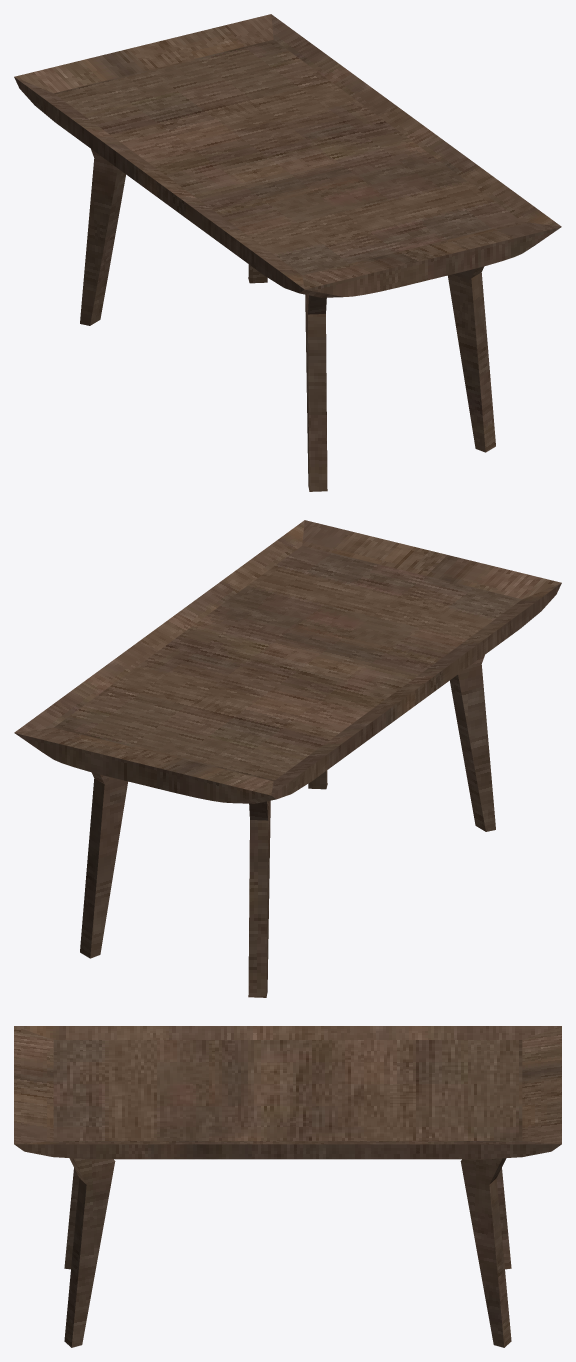
File: table.glb
The picture shows the model from 3 angles, top to bottom: view 1: azimuth 30°, elevation 25°; view 2: azimuth 150°, elevation 25°; view 3: azimuth 270°, elevation 25°; orthographic projection. The views are drawn at different scales.
Parts seen in each view (by area): view 1: Table; view 2: Table; view 3: Table.
Boxes of the visible parts, box(x1,y1,x2,y2) form: Table: box(14, 14, 561, 491); Table: box(14, 520, 561, 997); Table: box(14, 1026, 561, 1347).
Bounding box in the file's own units: 1.88 × 1.63 × 3.68.
1 material, 1 textured.
